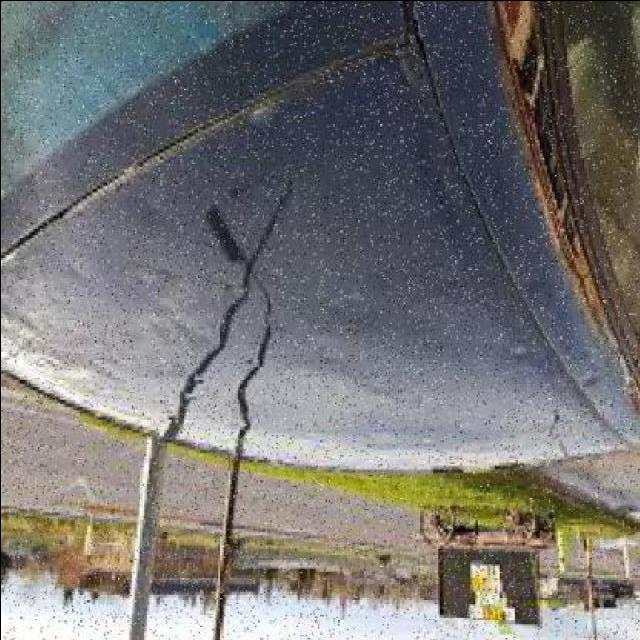roof-dent: (84, 99, 386, 492), (304, 140, 628, 467)
